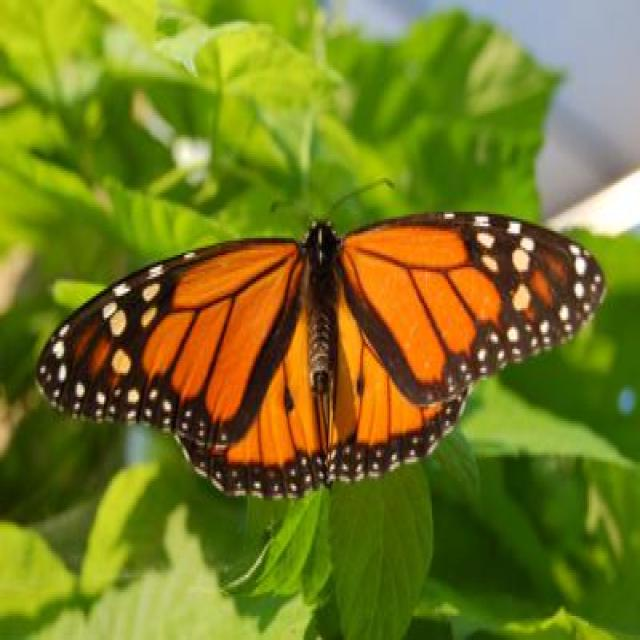antennae: (270, 178, 400, 227)
body: (304, 216, 344, 398)
insect: (37, 172, 606, 498)
wings: (38, 236, 326, 501), (322, 216, 604, 481)
